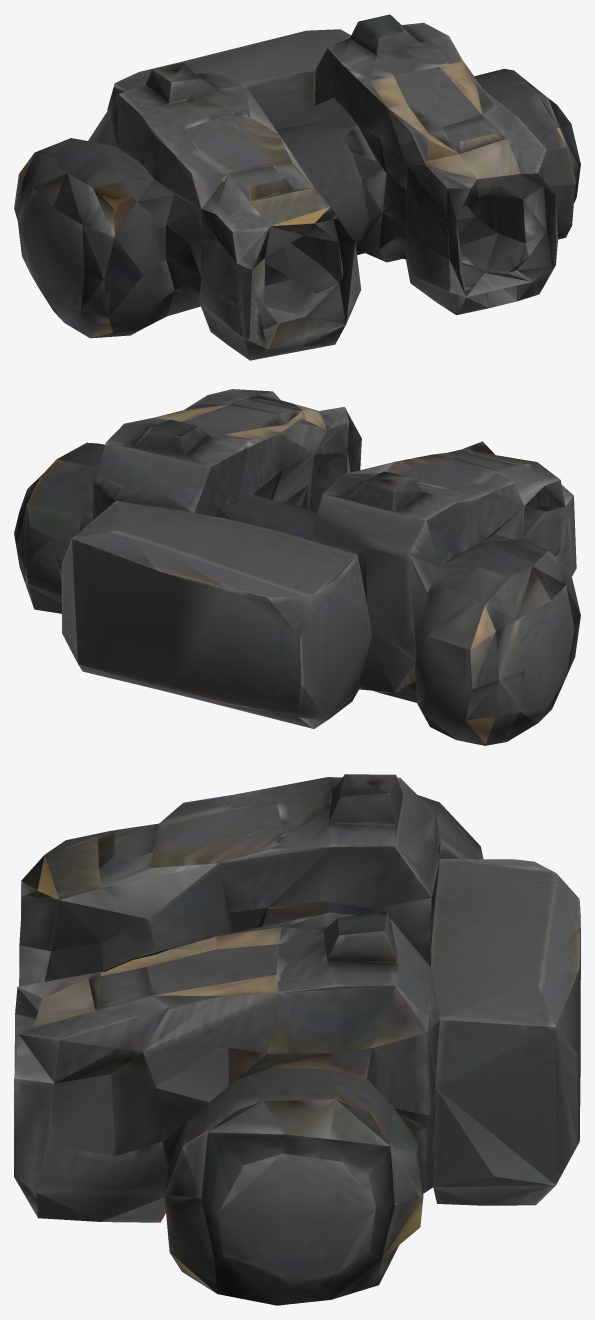
File: imperial_point_defence_turret__cradle_lod2.glb
3 views of the same model, one above another, from view 1: azimuth 30°, elevation 25°; view 2: azimuth 150°, elevation 25°; view 3: azimuth 270°, elevation 25° (orthographic). The views are drawn at different scales.
Parts seen in each view (by area): view 1: mesh_node; view 2: mesh_node; view 3: mesh_node.
Boxes of the visible parts, <box> form: mesh_node: <box>14,14,580,360</box>; mesh_node: <box>14,389,580,745</box>; mesh_node: <box>14,774,580,1305</box>.
Size of the model in its own units: 3.53 by 1.55 by 2.52.
Materials: 1 (1 with a texture image).
